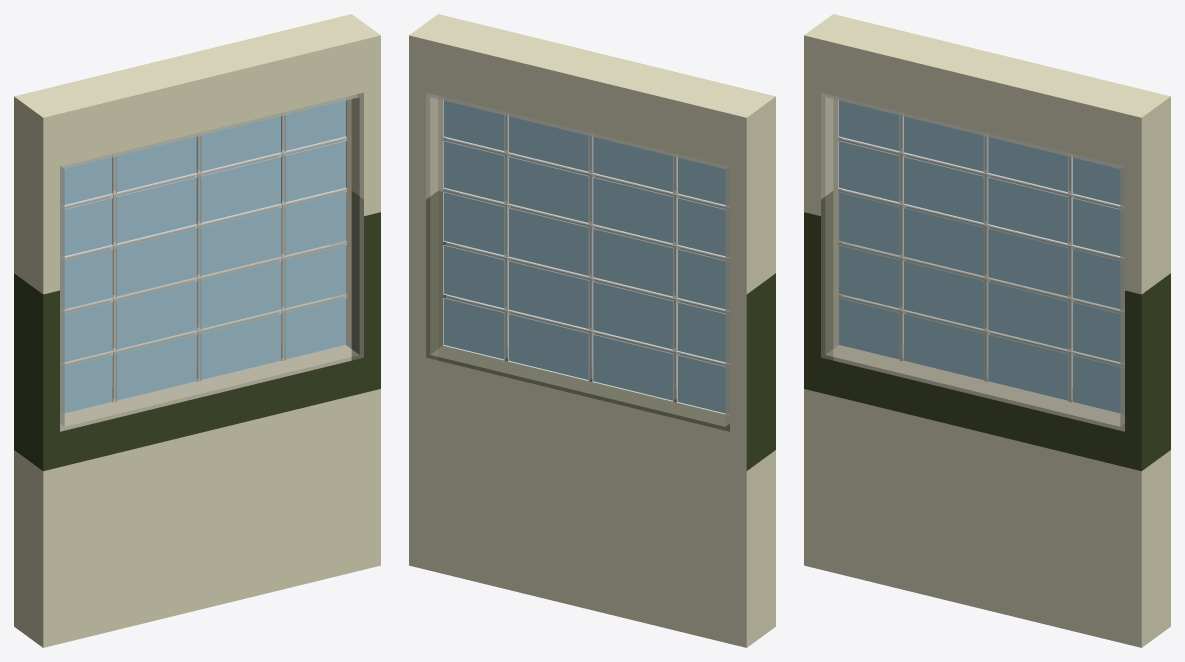
The model's file is wall_window_exportprep.gltf.
3 views of the same model, side by side, from view 1: azimuth 30°, elevation 25°; view 2: azimuth 150°, elevation 25°; view 3: azimuth 330°, elevation 25° (orthographic).
Visible parts, largest first — view 1: wall_window; view 2: wall_window; view 3: wall_window.
Boxes of the visible parts, bbox=[...] form: wall_window: bbox=[14, 14, 380, 647]; wall_window: bbox=[409, 14, 775, 647]; wall_window: bbox=[804, 14, 1170, 647].
Size of the model in its own units: 2 by 3 by 0.3.
